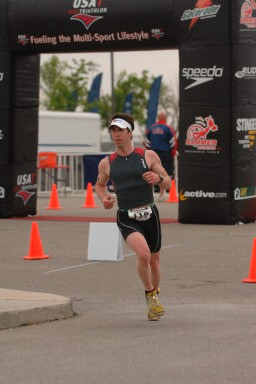person: (97, 117, 182, 321)
